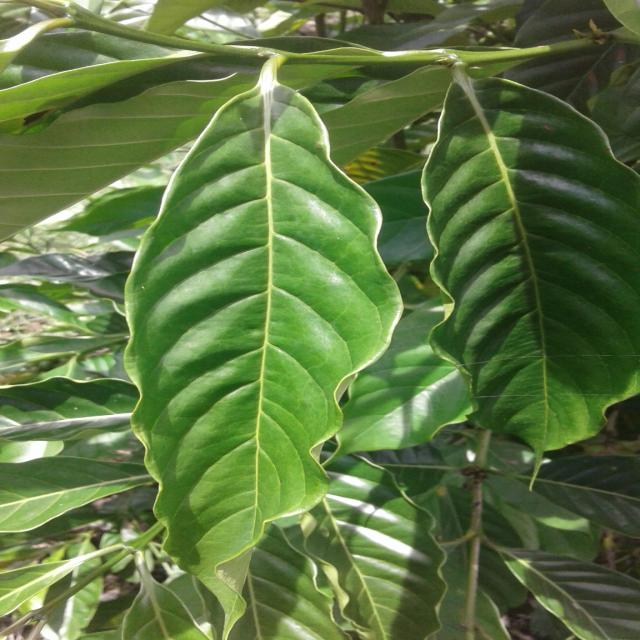Sanas: (122, 63, 404, 581)
